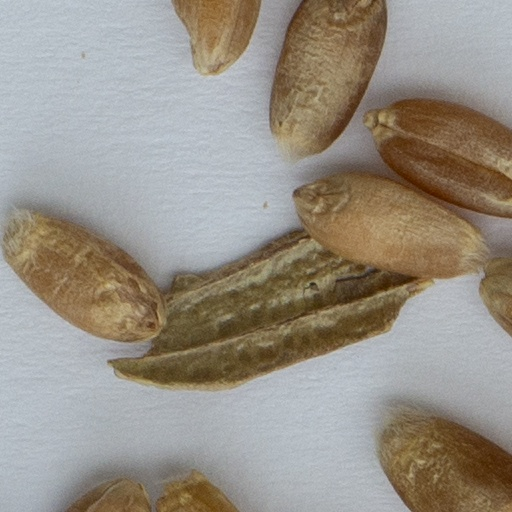Peel-poly: (102, 222, 429, 392)
Wheat-grain-poly: (1, 203, 163, 339), (290, 173, 493, 276), (264, 0, 386, 164), (362, 95, 511, 220)
